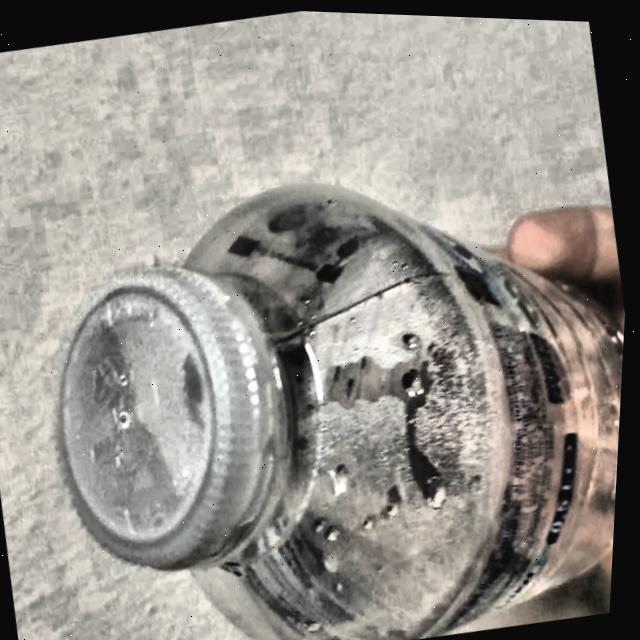plastic: (62, 176, 627, 640)
